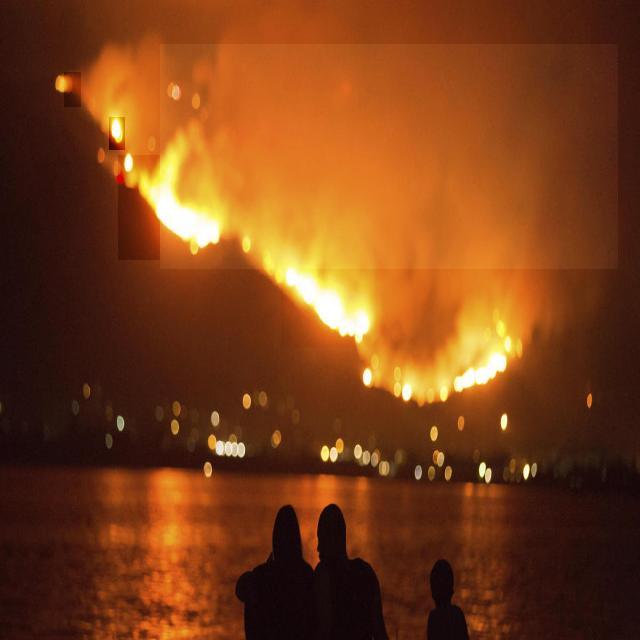Fire: (118, 155, 232, 260), (281, 254, 377, 347), (445, 350, 537, 394), (64, 72, 81, 107), (109, 117, 125, 150)
Smoke: (160, 44, 618, 269)
